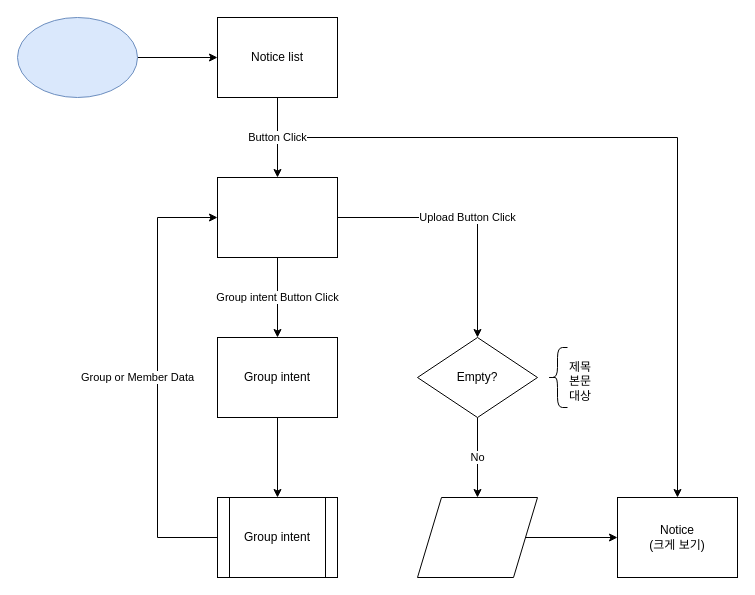
The diagram is 755 pixels wide and 595 high, and some of its shapes have lost their labels. The shapes that lost their labels are listed below. From the top down, each one's centre as x and y in pixels, then its label:
(77,57): Notice
(277,217): createPage
(477,537): Upload
